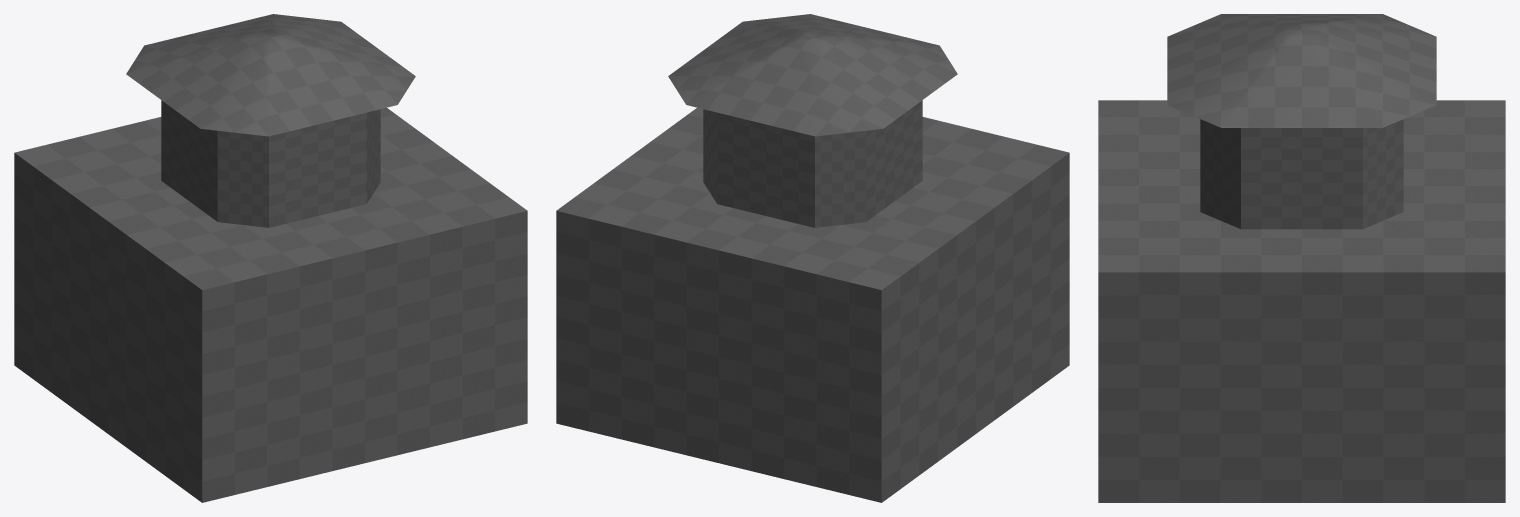
The model's file is SM_Pier_Building.glb.
3 views of the same model, side by side, from view 1: azimuth 30°, elevation 25°; view 2: azimuth 150°, elevation 25°; view 3: azimuth 270°, elevation 25° (orthographic). The views are drawn at different scales.
Visible parts, largest first — view 1: SM_Pier_Building; view 2: SM_Pier_Building; view 3: SM_Pier_Building.
Part boxes in pixels (left/top/right/bottom): SM_Pier_Building: left=14, top=14, right=527, bottom=502; SM_Pier_Building: left=556, top=14, right=1069, bottom=502; SM_Pier_Building: left=1098, top=14, right=1505, bottom=502.
Size of the model in its own units: 800 by 838 by 800.
1 material, 1 textured.
